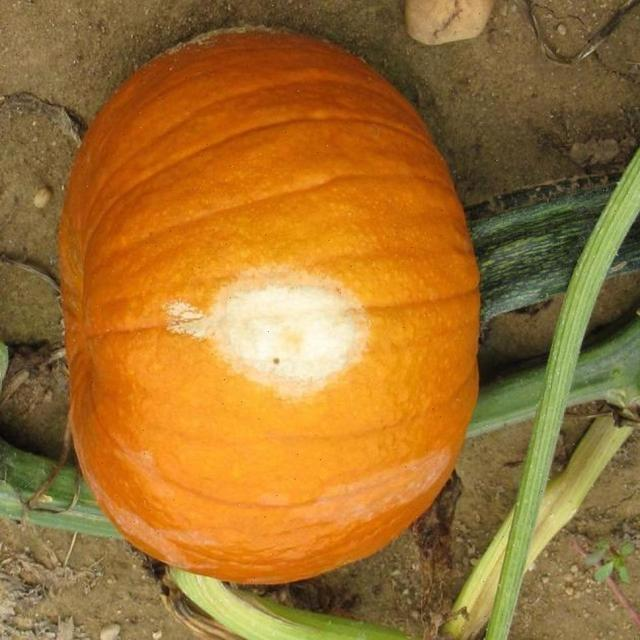Sunscald Fruit: (104, 182, 267, 268)
